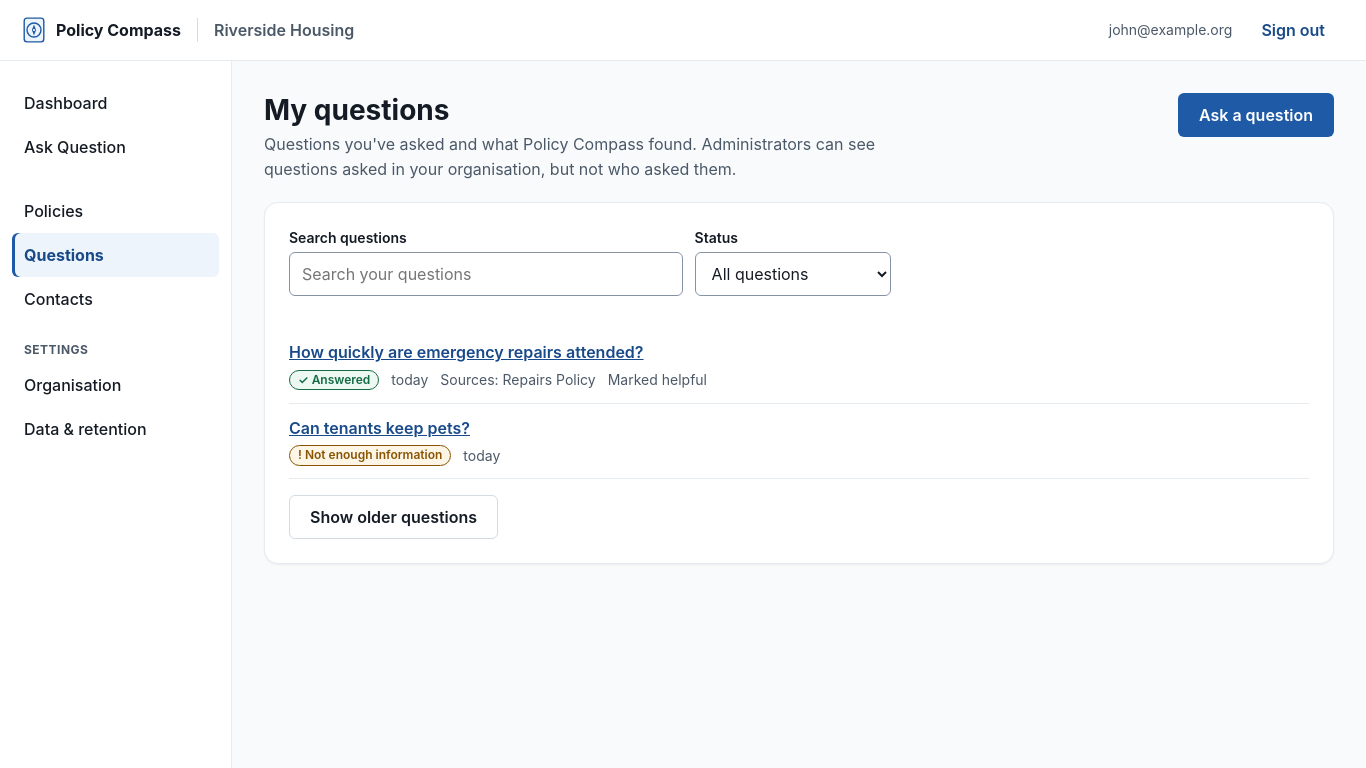
My questions (US-019) › lists my questions with status, date and sources, and loads older ones
Check: the list item "How quickly are emergency repairs attended?" shows "Answered", box [312, 372, 370, 387]
Check: the list item "How quickly are emergency repairs attended?" shows "today", box [391, 371, 428, 388]
Click the button "Show older questions": coordinates (394, 517) [289, 495, 498, 539]
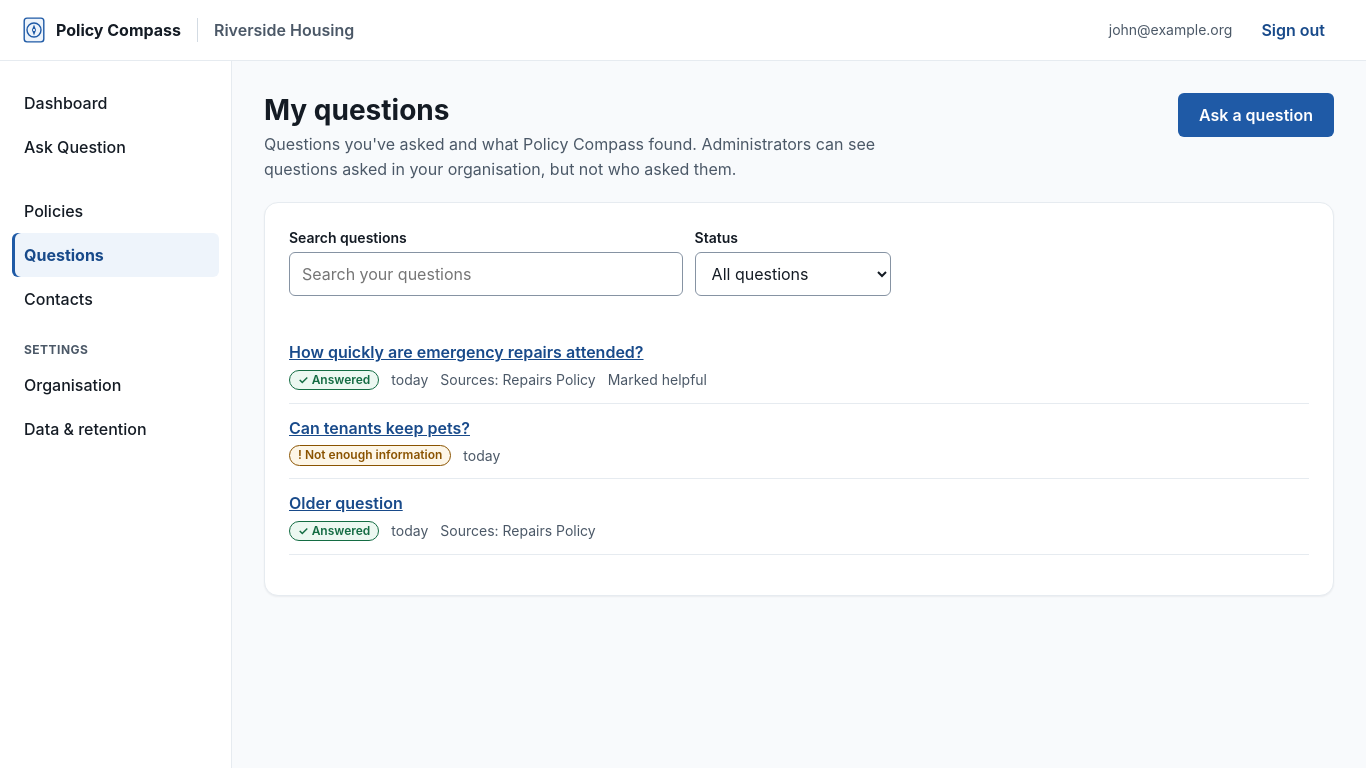
Check: the link "Older question" is shown, box [289, 493, 403, 513]
Check: the button "Show older questions" is gone
